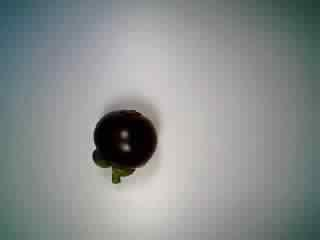mangosteen: (87, 102, 159, 187)
